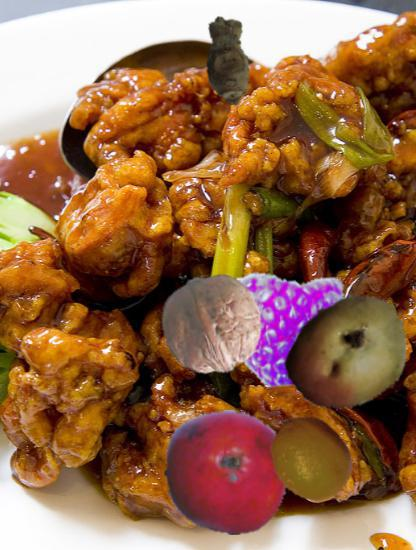Ginger: (181, 15, 274, 108)
Lemon: (264, 412, 357, 505)
Papaya: (282, 289, 412, 419)
Pomegranate: (164, 410, 290, 536)
Raspberry: (225, 266, 350, 391)
Walnut: (161, 273, 265, 377)
